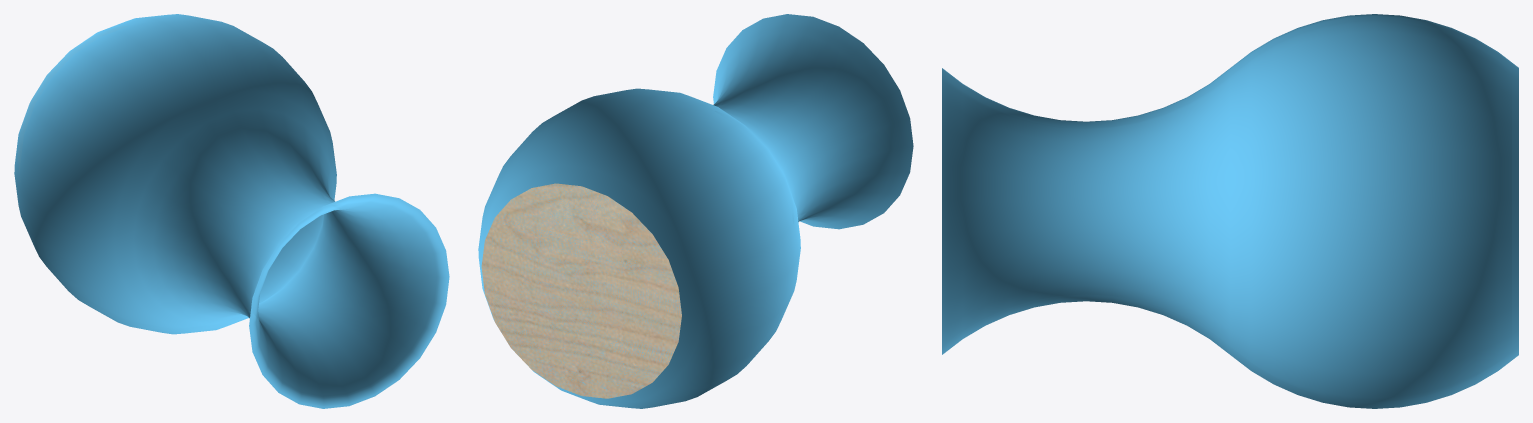
Rendered from model_scale.obj.
3 renders of one model, left to right at view 1: azimuth 30°, elevation 25°; view 2: azimuth 150°, elevation 25°; view 3: azimuth 270°, elevation 25°, orthographic. The views are drawn at different scales.
Visible parts, largest first — view 1: mesh1_mesh1-geometry; view 2: mesh1_mesh1-geometry; view 3: mesh1_mesh1-geometry.
Part boxes in pixels (x1,y1,x2,y2): mesh1_mesh1-geometry: [14, 14, 449, 408]; mesh1_mesh1-geometry: [478, 14, 913, 408]; mesh1_mesh1-geometry: [942, 14, 1518, 408].
Size of the model in its own units: 0.1512 by 0.1512 by 0.22.
Materials: 2 (1 with a texture image).
